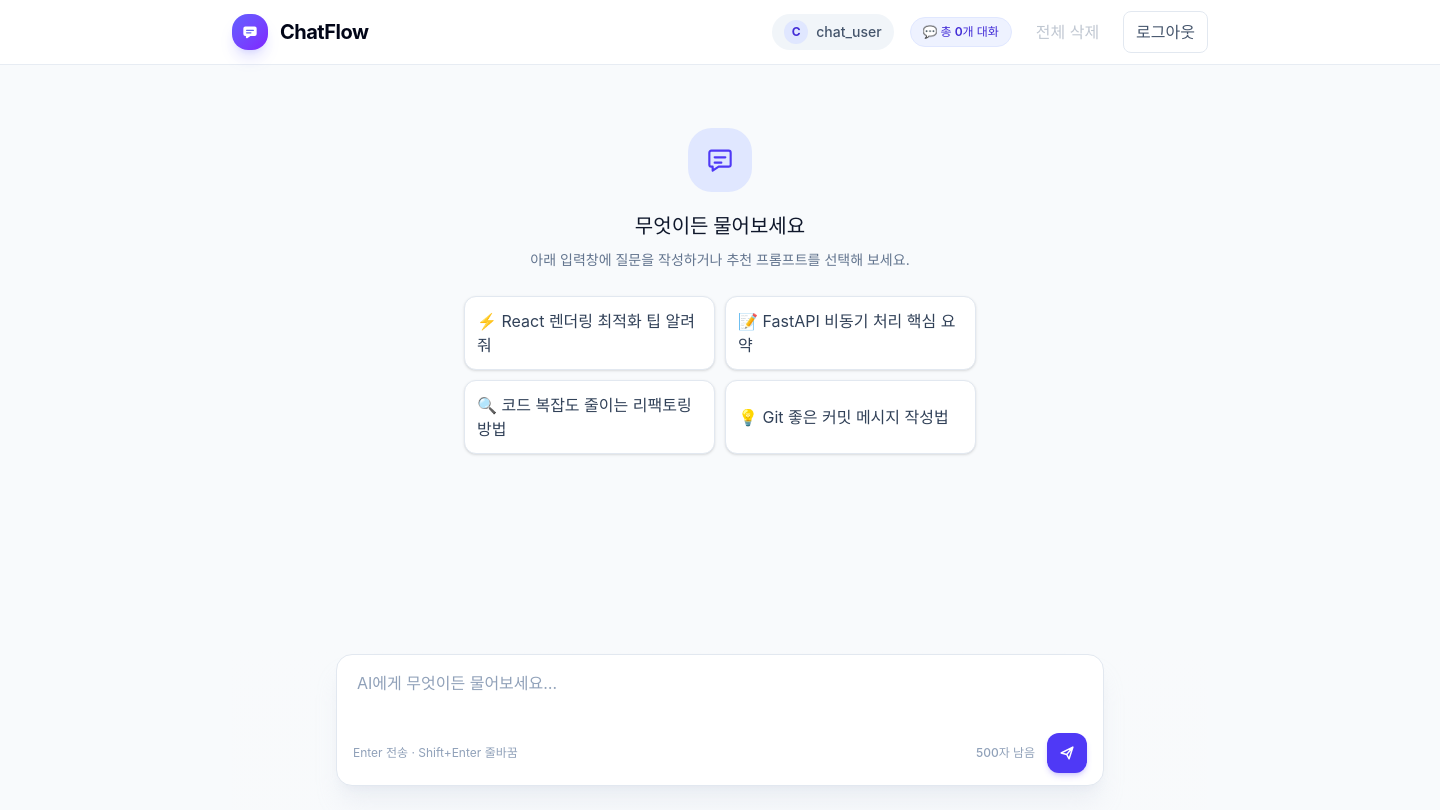
Test: ChatFlow application › 작성 중인 입력이 있어도 추천 프롬프트 전송 성공 후 입력창을 비운다
Expected: the heading "무엇이든 물어보세요" is shown, x1=635 y1=212 x2=805 y2=240
Type "작성 중인 질문" into the text box named "AI에게 보낼 질문" at x=720, y=695, box x1=345 y1=663 x2=1095 y2=727
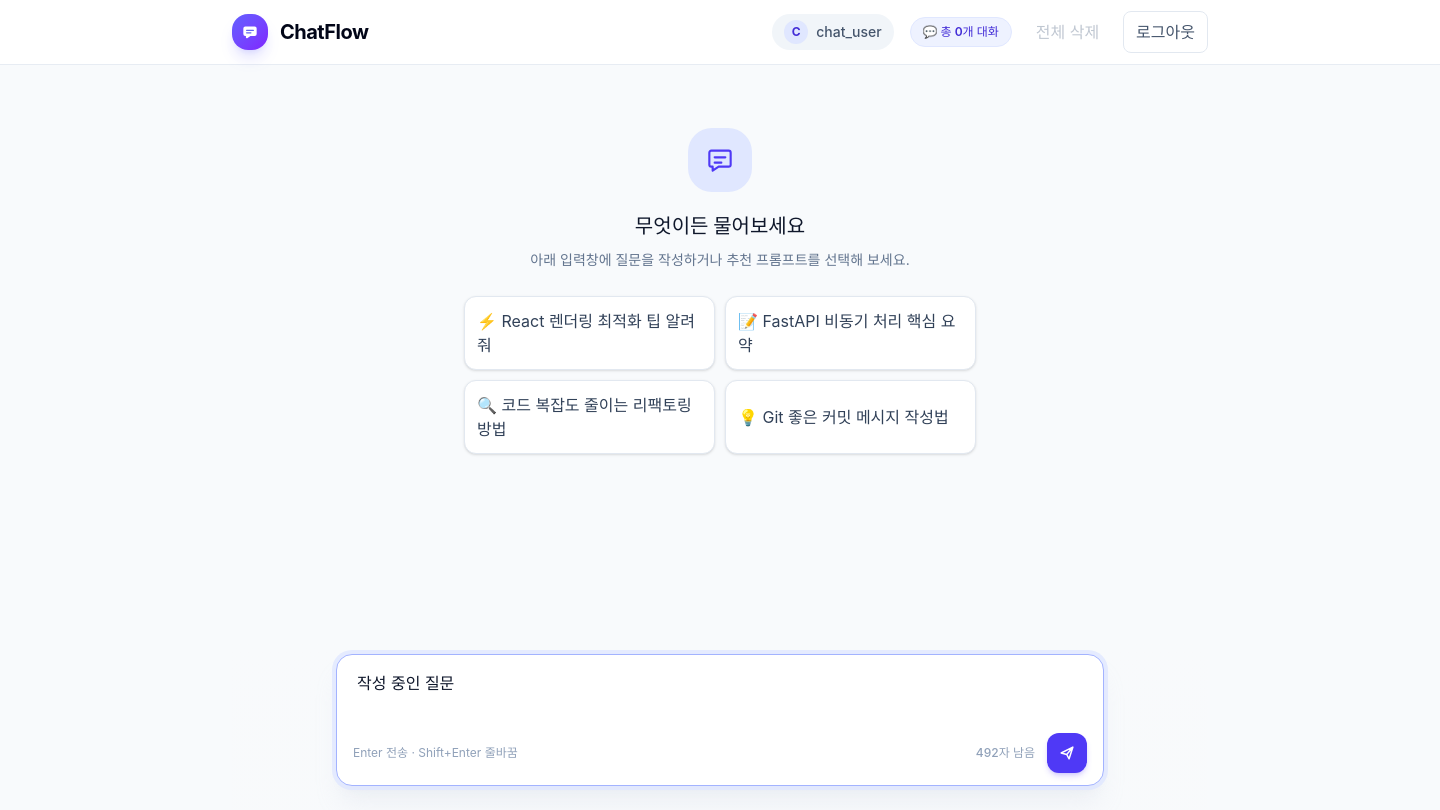
Click the button "⚡️ React 렌더링 최적화 팁 알려줘" at x=590, y=333, box x1=464 y1=296 x2=715 y2=370
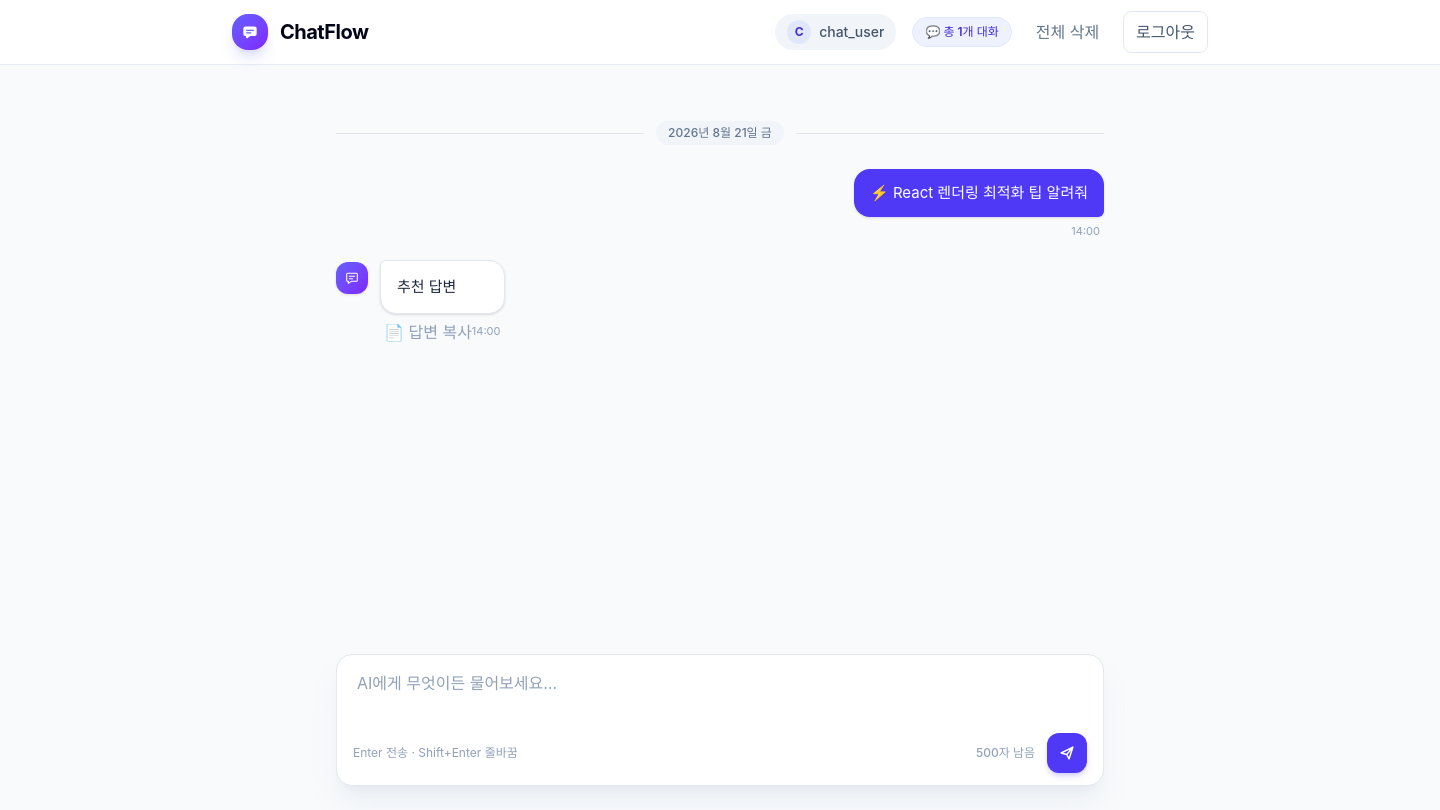
Result: the text "추천 답변" is shown at x1=397 y1=276 x2=456 y2=296
Result: the text box named "AI에게 보낼 질문" is empty at x1=345 y1=663 x2=1095 y2=727
